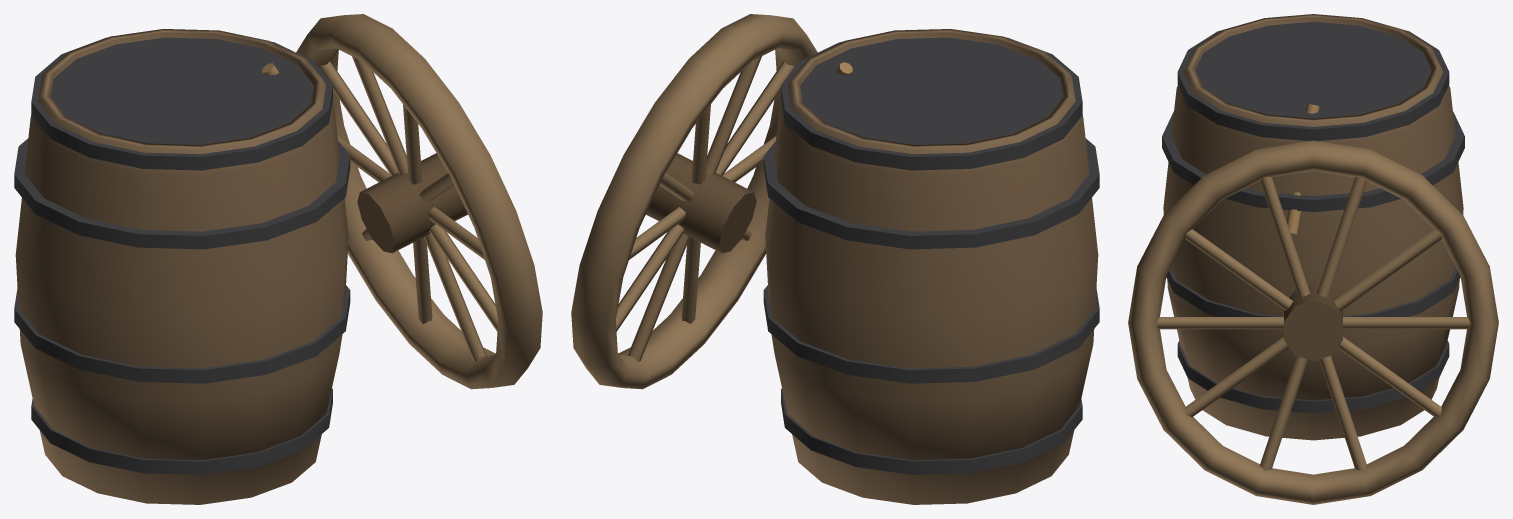
File: diizhka.glb
3 views of the same model, side by side, from view 1: azimuth 30°, elevation 25°; view 2: azimuth 150°, elevation 25°; view 3: azimuth 270°, elevation 25° (orthographic). The views are drawn at different scales.
Parts seen in each view (by area): view 1: barrel, hoop (×4), rim, spoke (×8), hub; view 2: barrel, hoop (×4), rim, spoke (×8), hub; view 3: barrel, hoop (×4), rim, spoke (×10), hub, dipper.
Boxes of the visible parts, box(x1,y1,x2,y2) form: barrel: box(15, 29, 348, 504); hoop (×4): box(14, 37, 350, 474); rim: box(296, 14, 542, 389); spoke (×8): box(319, 56, 498, 361); hub: box(357, 153, 467, 253); barrel: box(765, 29, 1098, 504); hoop (×4): box(763, 37, 1099, 474); rim: box(571, 14, 817, 389); spoke (×8): box(615, 56, 794, 361); hub: box(646, 153, 756, 253); barrel: box(1163, 14, 1463, 440); hoop (×4): box(1162, 21, 1464, 413); rim: box(1128, 140, 1498, 504); spoke (×10): box(1156, 177, 1470, 470); hub: box(1284, 284, 1342, 361); dipper: box(1287, 104, 1319, 234).
Bounding box in the file's own units: 1.03 × 0.8269 × 0.84.
